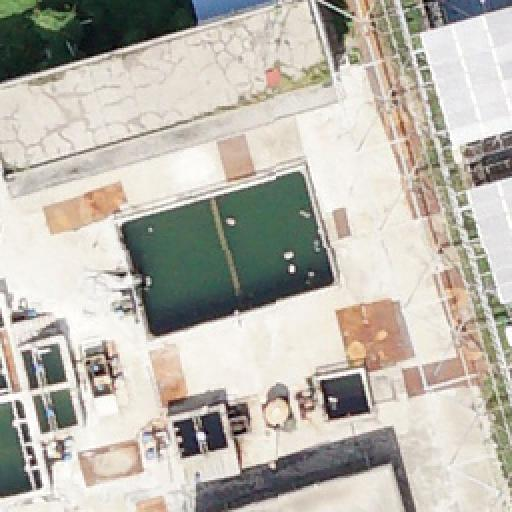solar-panel: (420, 9, 512, 151), (465, 177, 511, 303)
